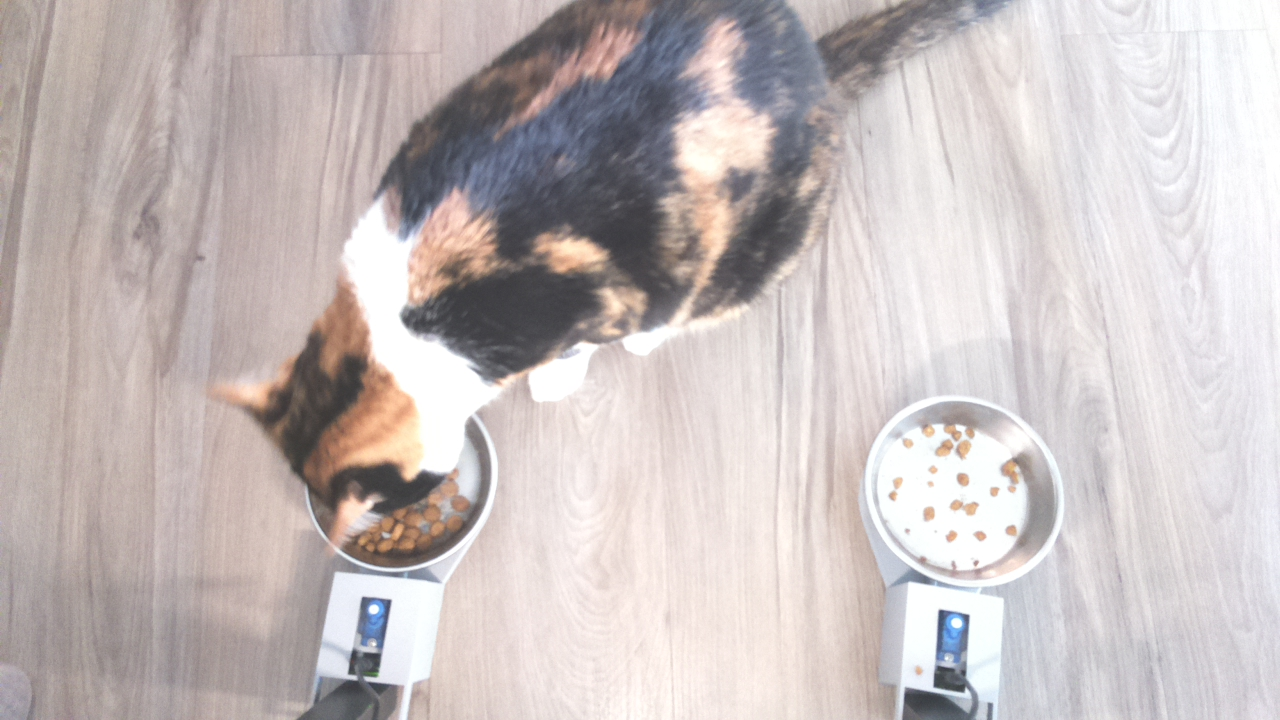bella_eating: (208, 305, 514, 576)
open_bowl: (859, 387, 1065, 589)
